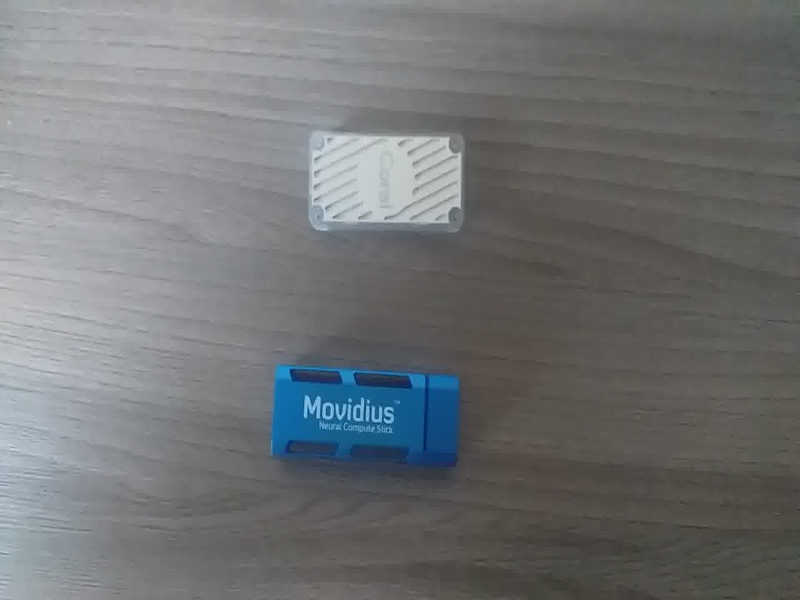coral: (297, 120, 484, 255)
movidius: (269, 356, 469, 476)
